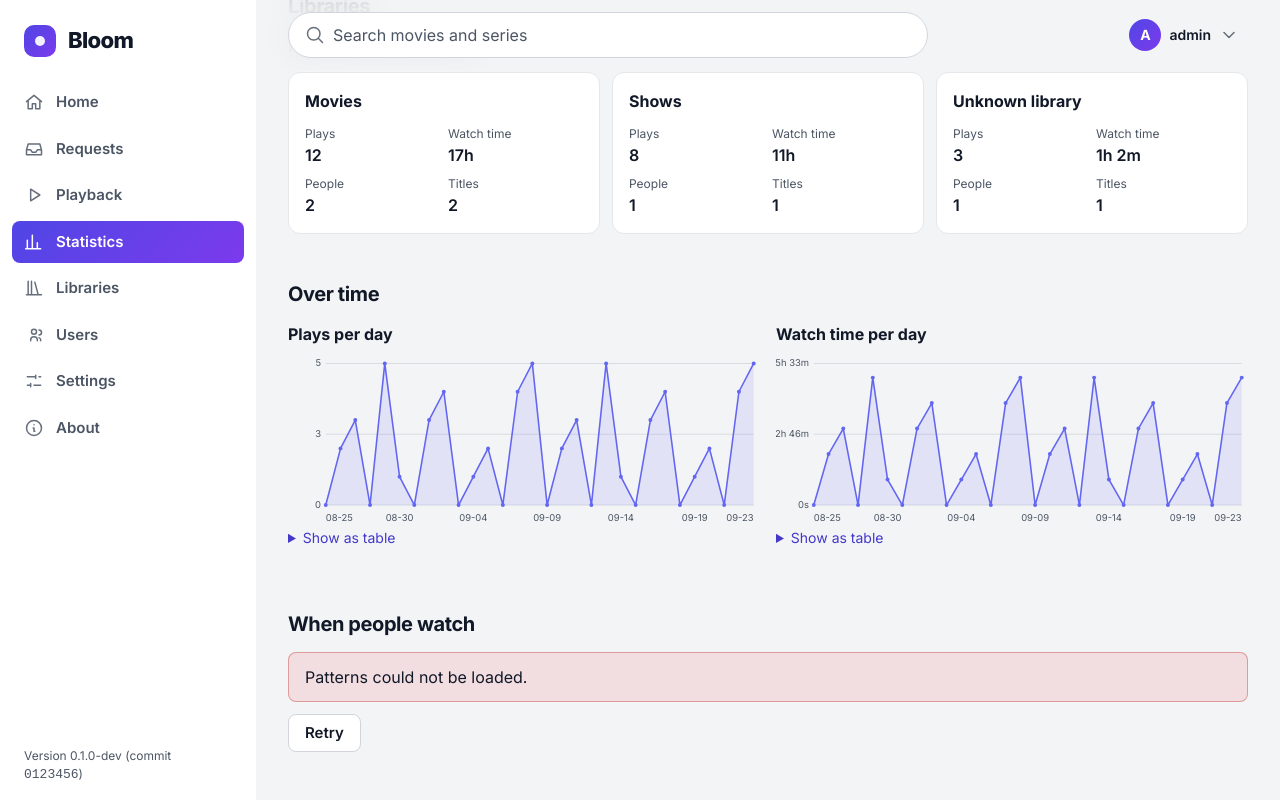
Test case: offers a retry when one report fails
(page scrolled)
Check: the message reads "Patterns could not be loaded.", box x1=288 y1=652 x2=1248 y2=702
What coordinates should you click on to do the following:
click the button "Retry"
I would click on:
 (324, 733)
Its box is x1=288 y1=714 x2=361 y2=752.
(page scrolled)
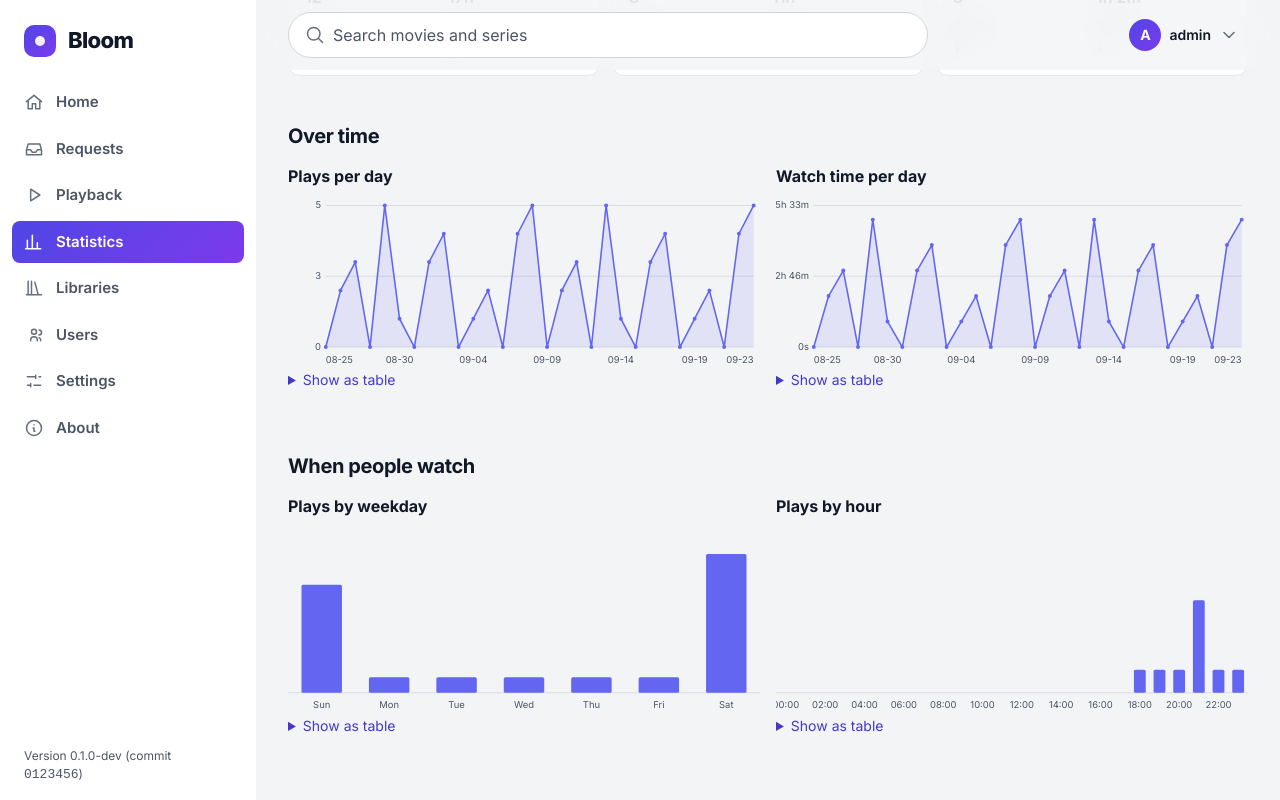
Check: the element "Plays by weekday" is shown, box x1=288 y1=494 x2=760 y2=736
